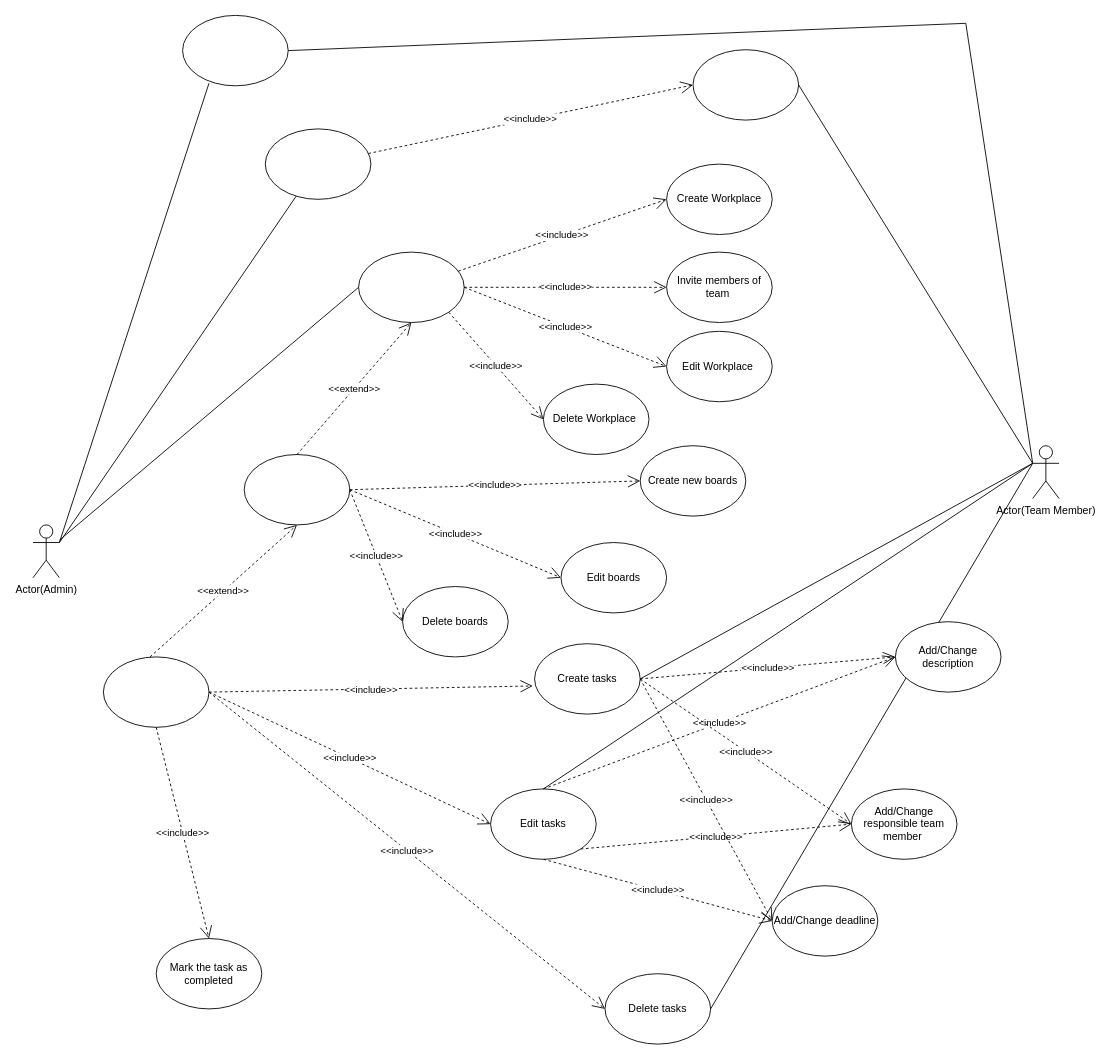
Image size: 1111x1060. Some labels were removed from this diagram. The centre of each missing label's shape, as x and y in pixels:
"Create/Edit Profile" belongs at (745,84).
"Manage Boards" belongs at (296,489).
"Manage tasks" belongs at (156,691).
"Manage Teams (Workplaces)" belongs at (411,287).
"Register/Sign In" belongs at (235,50).
"View Profile" belongs at (317,163).
